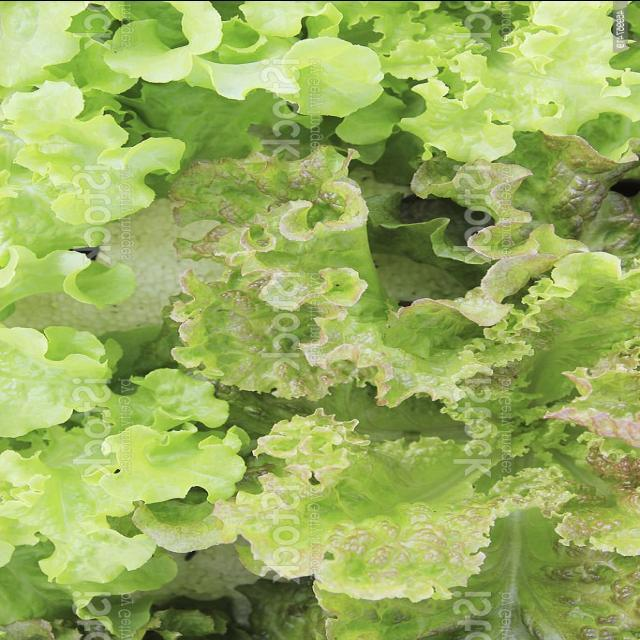Baby: (175, 158, 370, 376), (259, 430, 483, 593)
